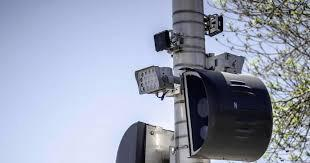Speed-Camera: (180, 47, 276, 163), (113, 64, 178, 163)
